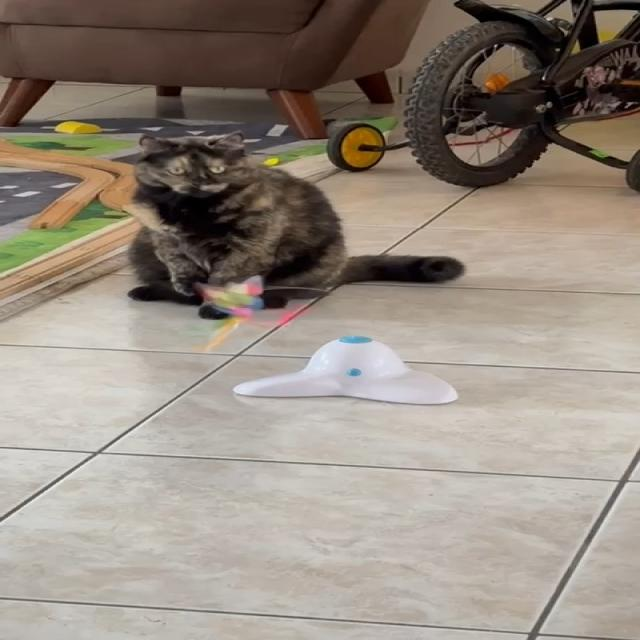authorized: (122, 129, 466, 319)
